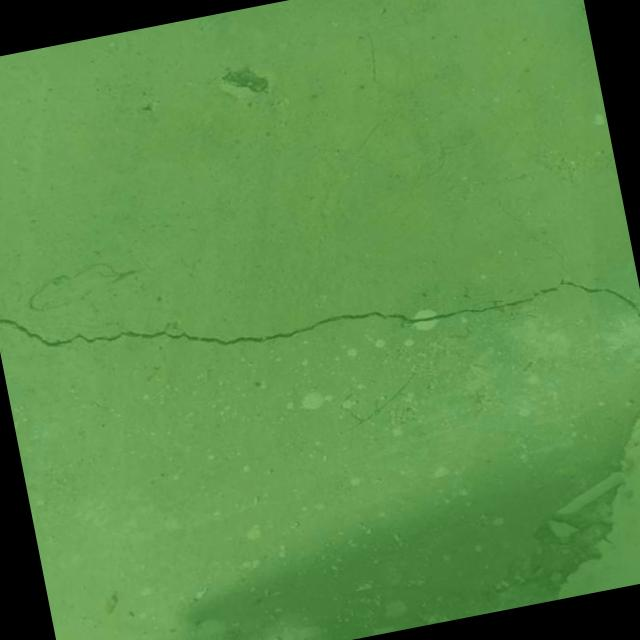crack: (0, 188, 640, 445), (498, 190, 570, 288)
